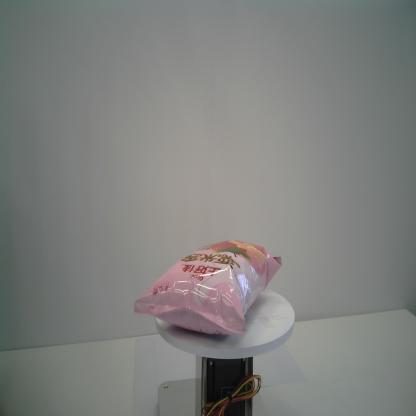Puffed Food: (133, 238, 282, 338)
